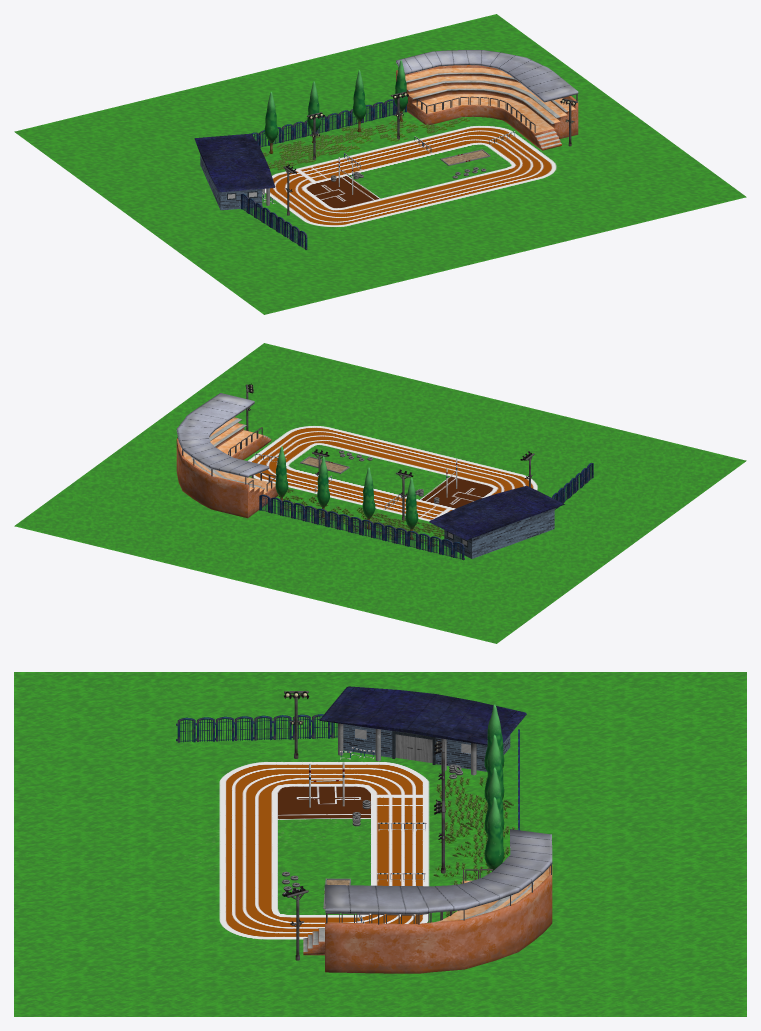
Rendered from escenario_Correr.fbx.
3 views of the same model, one above another, from view 1: azimuth 30°, elevation 25°; view 2: azimuth 150°, elevation 25°; view 3: azimuth 270°, elevation 25° (orthographic). The views are drawn at different scales.
Parts seen in each view (by area): view 1: suelo, gradas, edificio, verjas, hierbas 2, Arboles, torre luz, hierbas 1; view 2: suelo, gradas, edificio, verjas, Arboles, hierbas 2, torre luz; view 3: suelo, gradas, edificio, verjas, Arboles, hierbas 2, torre luz, vallas de salto, neumaticos.
Boxes of the visible parts, x1,y1,x2,y2 form: suelo: [14, 14, 746, 314]; gradas: [396, 50, 578, 150]; edificio: [194, 133, 275, 210]; verjas: [241, 99, 406, 249]; hierbas 2: [263, 120, 461, 170]; Arboles: [264, 60, 407, 153]; torre luz: [283, 92, 577, 215]; hierbas 1: [279, 117, 469, 154]; suelo: [14, 343, 746, 643]; gradas: [176, 393, 278, 518]; edificio: [429, 486, 564, 558]; verjas: [259, 462, 593, 560]; Arboles: [275, 446, 418, 539]; hierbas 2: [284, 488, 444, 546]; torre luz: [245, 383, 534, 520]; suelo: [14, 672, 746, 1016]; gradas: [303, 829, 552, 973]; edificio: [319, 686, 526, 775]; verjas: [176, 714, 519, 830]; Arboles: [484, 704, 504, 871]; hierbas 2: [433, 777, 515, 916]; torre luz: [282, 691, 445, 960]; vallas de salto: [339, 747, 426, 923]; neumaticos: [282, 764, 462, 896].
Size of the model in its own units: 43095 by 5506 by 38703.
